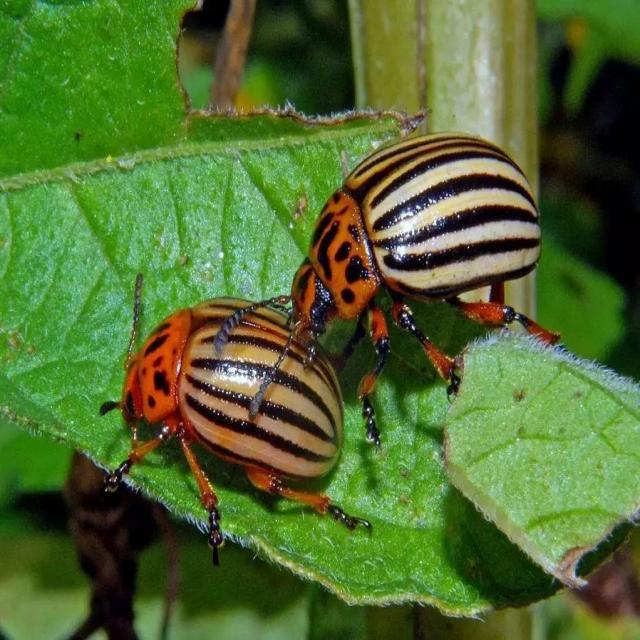ShuCaiHuaBanChong-Grown-: (270, 130, 556, 347), (104, 284, 354, 519)
